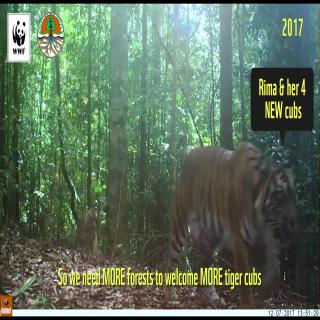Tiger: (165, 129, 301, 285)
